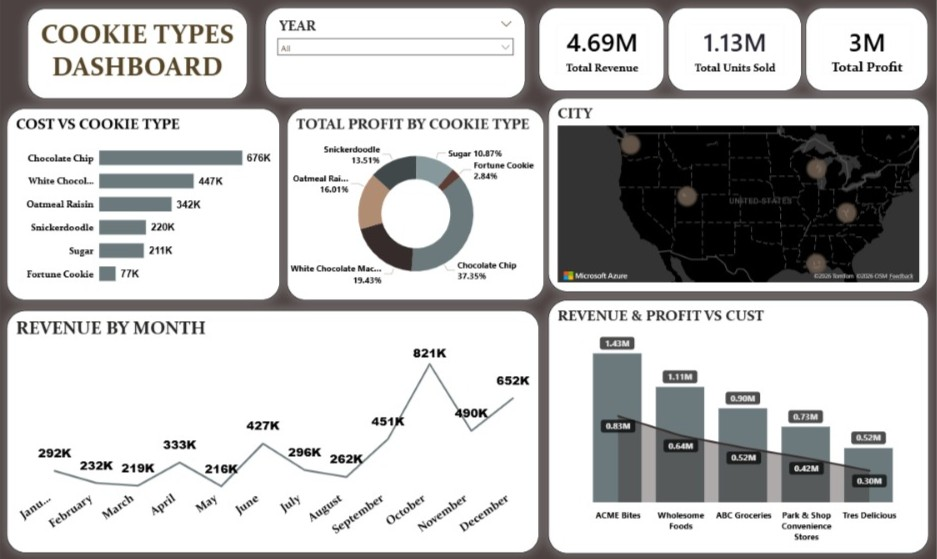

This screenshot's page, from the dashboard's own definition file:
{"tool":"powerbi","page":{"name":"Page 1","canvas":[1500,900],"ordinal":0},"visuals":[{"type":"clusteredBarChart","title":"COST VS COOKIE TYPE","fields":{"Category":["Cookie Types.Cookie Type"],"Y":["Sum(Orders.Cost)"]},"box":[12.5,175,437.5,307.1],"z":0},{"type":"azureMap","title":"CITY","fields":{"Category":["Customers.City"]},"box":[878.6,158.9,608.9,310.7],"z":1000},{"type":"cardVisual","fields":{"Data":["Orders.Total Profit"]},"box":[1290.5,13.7,195.8,134.7],"z":2000},{"type":"cardVisual","fields":{"Data":["Orders.Total Revenue"]},"box":[863.2,13.7,201.1,134.7],"z":3000},{"type":"cardVisual","fields":{"Data":["Orders.Total Units Sold"]},"box":[1069.5,13.7,213.7,134.7],"z":4000},{"type":"lineChart","title":"REVENUE BY MONTH","fields":{"Y":["Sum(Orders.Revenue)"],"Category":["Orders.Date.Variation.Date Hierarchy.Month"]},"box":[11.7,498.3,851.7,388.3],"z":5000},{"type":"lineClusteredColumnComboChart","title":"REVENUE & PROFIT VS CUST","fields":{"Category":["Customers.Name"],"Y":["Sum(Orders.Revenue)"],"Y2":["Orders.Total Profit"]},"box":[878.6,482.1,608.9,405.4],"z":6000},{"type":"donutChart","title":"TOTAL PROFIT BY COOKIE TYPE","fields":{"Y":["Orders.Total Profit"],"Category":["Cookie Types.Cookie Type"]},"box":[459.3,175.2,412.4,307.1],"z":7000},{"type":"slicer","fields":{"Values":["Orders.Date.Variation.Date Hierarchy.Year"]},"box":[425,14.1,417.2,145.3],"z":8000},{"type":"textbox","box":[44.6,14.3,351.8,144.6],"z":9000}]}

Visuals, with their boxes in screenshot pixels (x1, y1, x2, y2), scaled from the page's 1500x900 canvas onto the 937x559 screenshot:
"COST VS COOKIE TYPE" clusteredBarChart: locate(8, 109, 281, 299)
"CITY" azureMap: locate(549, 99, 929, 292)
cardVisual - Orders.Total Profit: locate(806, 9, 928, 92)
cardVisual - Orders.Total Revenue: locate(539, 9, 665, 92)
cardVisual - Orders.Total Units Sold: locate(668, 9, 802, 92)
"REVENUE BY MONTH" lineChart: locate(7, 309, 539, 551)
"REVENUE & PROFIT VS CUST" lineClusteredColumnComboChart: locate(549, 299, 929, 551)
"TOTAL PROFIT BY COOKIE TYPE" donutChart: locate(287, 109, 545, 300)
slicer - Orders.Date.Variation.Date Hierarchy.Year: locate(265, 9, 526, 99)
textbox: locate(28, 9, 248, 99)
